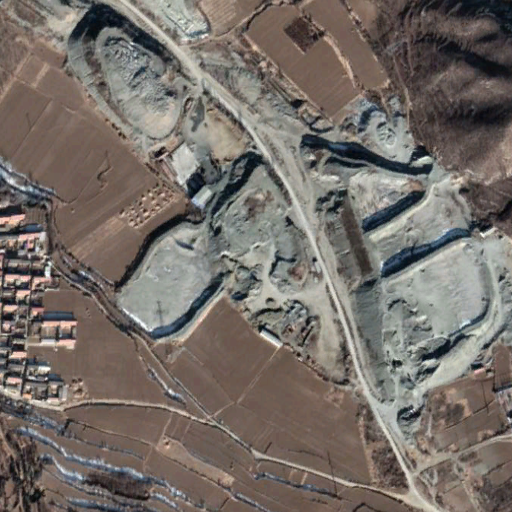tp: (345, 163, 502, 383), (121, 214, 222, 345)
